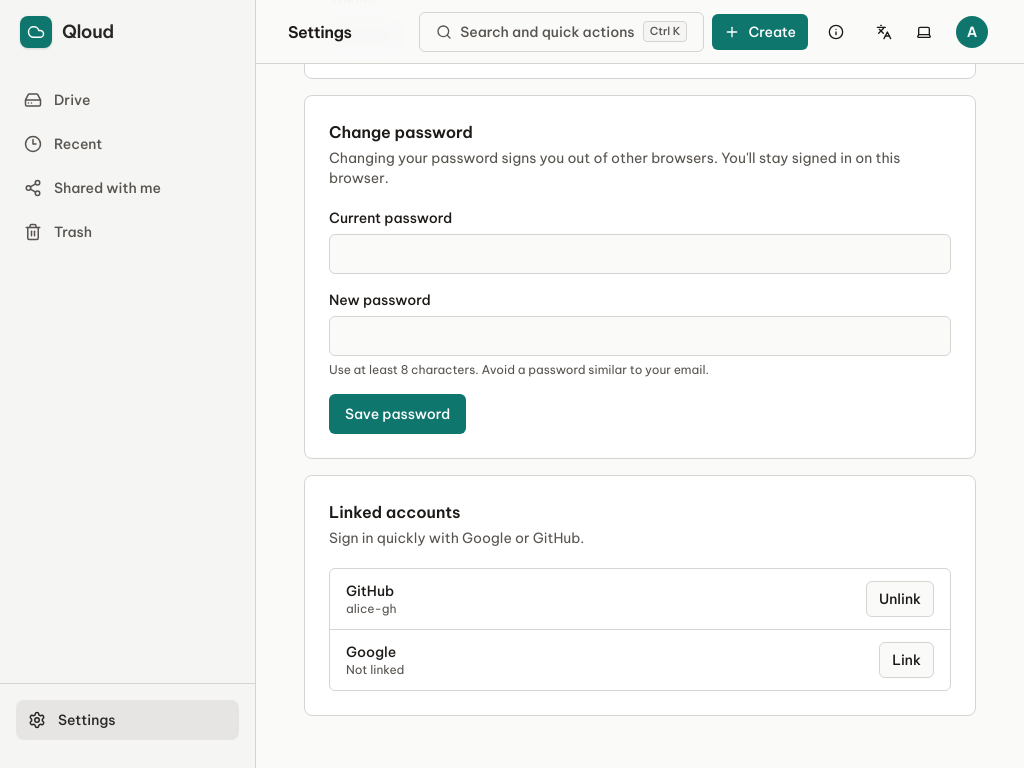
it: settings (S-13) › explains why the last sign-in method cannot be unlinked
This screenshot has width=1024, height=768.
(page scrolled)
Click the button "Unlink" at (900, 599), box [866,581,934,617]
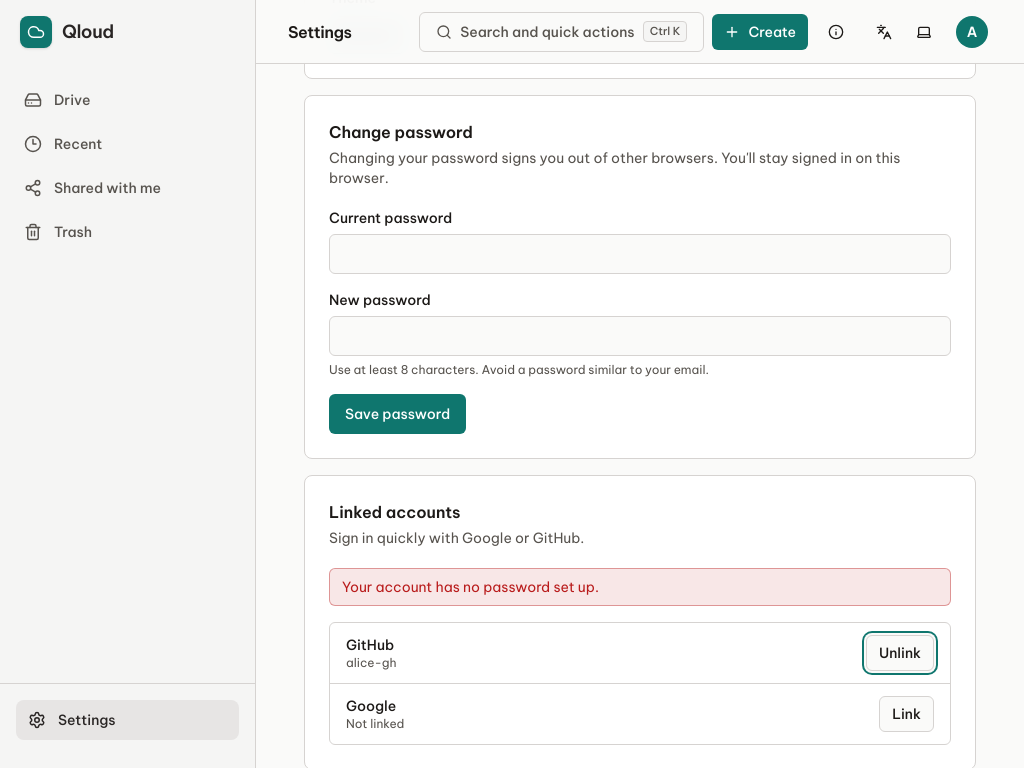
Check: the message reads "Your account has no password set up.", box [342,578,599,596]
